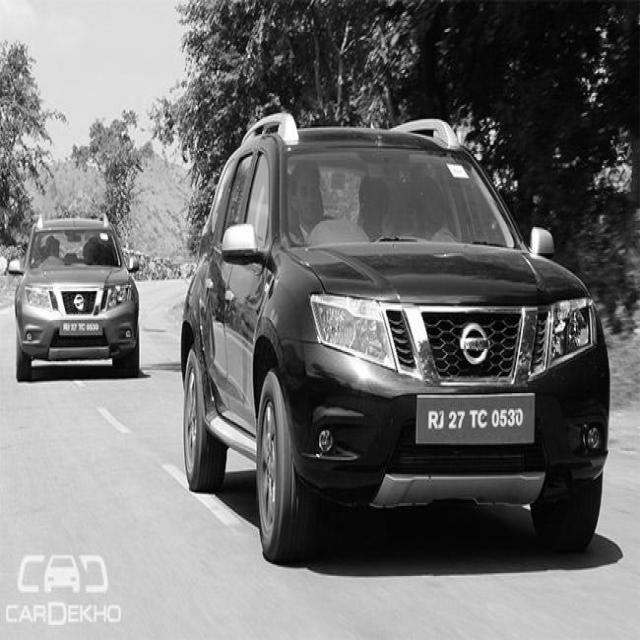car: (180, 108, 627, 567), (6, 189, 148, 385)
license-plate: (418, 396, 534, 447), (57, 314, 104, 341)
